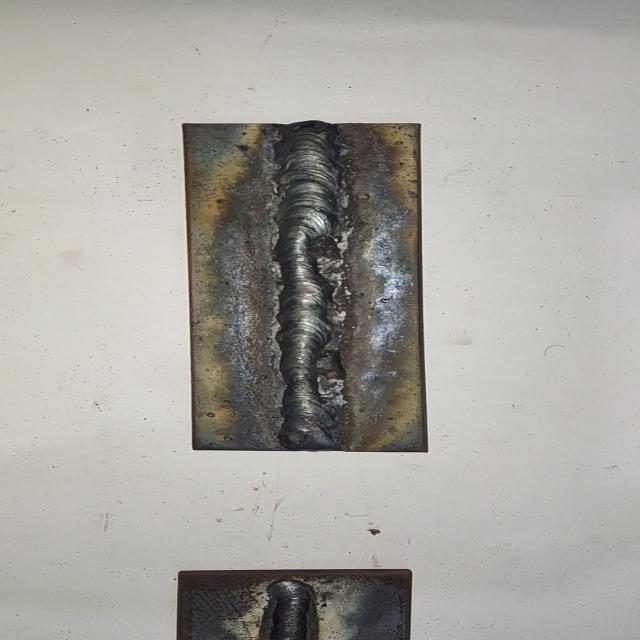Bad Weld: (281, 128, 338, 448)
Defect: (304, 338, 356, 419), (301, 230, 350, 289)
Good Weld: (270, 582, 312, 640)
